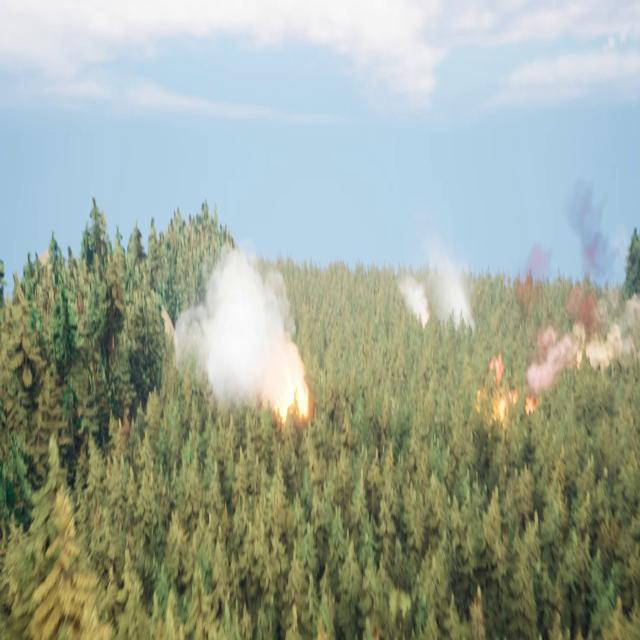fire: (479, 349, 535, 438), (275, 366, 314, 426)
smoke: (518, 176, 638, 392), (171, 243, 297, 406), (395, 248, 477, 337)
